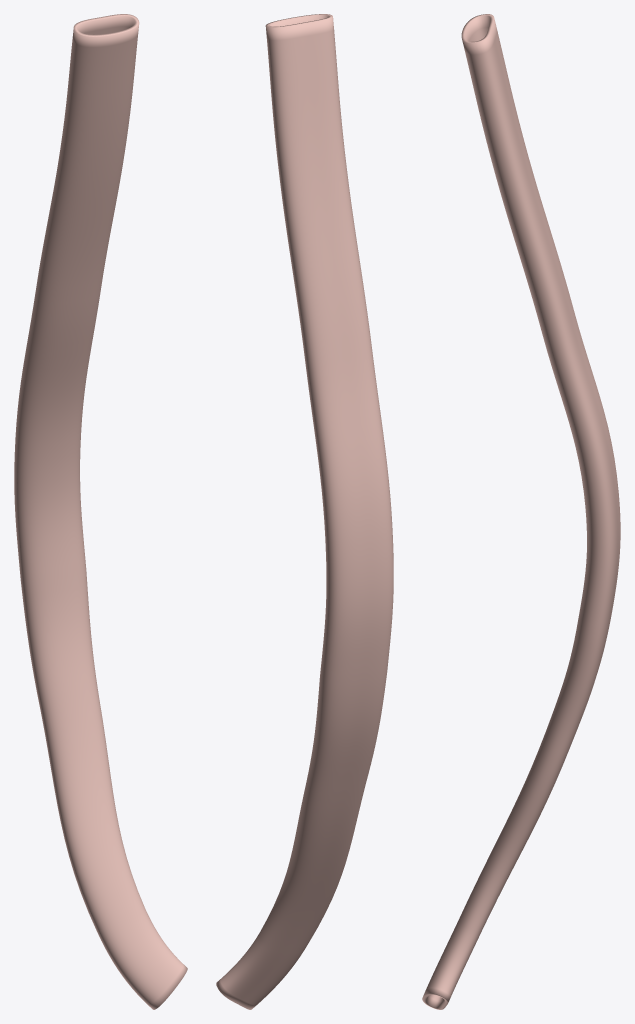
File: esofago-test.glb
The picture shows the model from 3 angles, left to right: view 1: azimuth 30°, elevation 25°; view 2: azimuth 210°, elevation 25°; view 3: azimuth 270°, elevation 25°; orthographic projection. The views are drawn at different scales.
Visible parts, largest first — view 1: Oesophagus; view 2: Oesophagus; view 3: Oesophagus.
Part boxes in pixels (x1,y1,x2,y2): Oesophagus: (14, 14, 187, 1009); Oesophagus: (216, 14, 393, 1009); Oesophagus: (422, 14, 620, 1009).
Size of the model in its own units: 0.0273 by 0.2815 by 0.0521.
